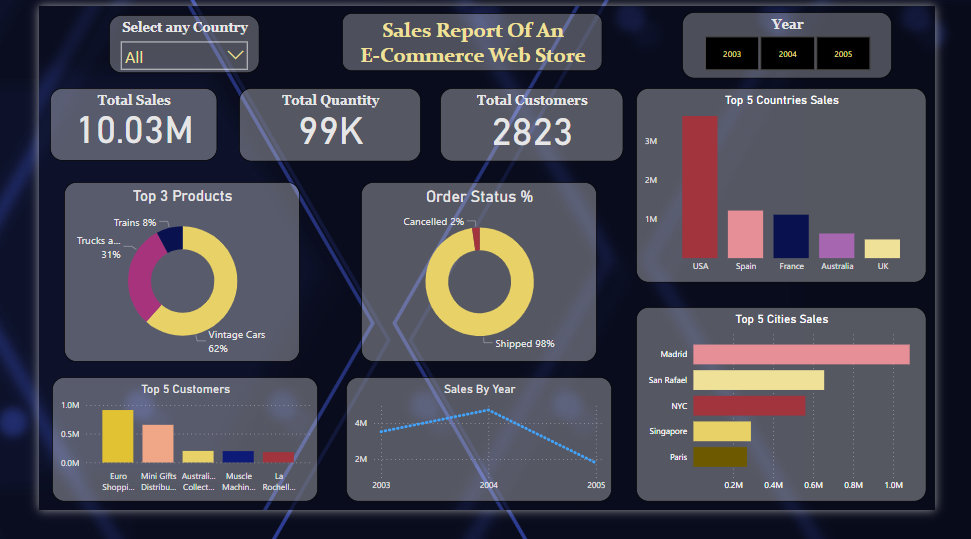

The page's visual inventory and layout, read from the dashboard file:
{"tool":"powerbi","page":{"name":"Page 1","canvas":[1280,720],"ordinal":0},"visuals":[{"type":"columnChart","title":"Top 5 Countries Sales ","fields":{"Category":["sales_data_sample.COUNTRY"],"Y":["Sum(sales_data_sample.SALES)"]},"box":[853.3,116.7,415,278.3],"z":0},{"type":"textbox","title":"Sales Report Of An E-Commerce Web Store","box":[433.3,10,371.7,83.3],"z":1000},{"type":"card","title":"Total Sales","fields":{"Values":["Sum(sales_data_sample.SALES)"]},"box":[15.7,117.1,238.6,104.3],"z":2000},{"type":"barChart","title":"Top 5 Cities Sales ","fields":{"Category":["sales_data_sample.CITY"],"Y":["Sum(sales_data_sample.SALES)"]},"box":[853.3,430,415,278.3],"z":3000},{"type":"donutChart","title":"Top 3 Products","fields":{"Category":["sales_data_sample.PRODUCTLINE"],"Y":["CountNonNull(sales_data_sample.PRODUCTLINE)"]},"box":[35,251.7,336.7,256.7],"z":3001},{"type":"card","title":"Total Quantity","fields":{"Values":["Sum(sales_data_sample.QUANTITYORDERED)"]},"box":[285,116.7,260,105],"z":3002},{"type":"donutChart","title":"Order Status %","fields":{"Category":["sales_data_sample.STATUS"],"Y":["CountNonNull(sales_data_sample.CUSTOMERNAME)"]},"box":[460,251.7,336.7,256.7],"z":3003},{"type":"lineClusteredColumnComboChart","title":"Sales By Year","fields":{"Y2":["Sum(sales_data_sample.SALES)"],"Category":["sales_data_sample.YEAR_ID"]},"box":[438.3,530,380,178.3],"z":3004},{"type":"card","title":"Total Customers","fields":{"Values":["CountNonNull(sales_data_sample.CUSTOMERNAME)"]},"box":[573.3,116.7,261.7,105],"z":3005},{"type":"columnChart","title":"Top 5 Customers","fields":{"Category":["sales_data_sample.CUSTOMERNAME"],"Y":["Sum(sales_data_sample.SALES)"]},"box":[18.3,530,380,178.3],"z":3006},{"type":"slicer","title":"Year ","fields":{"Values":["sales_data_sample.YEAR_ID"]},"box":[918.3,8.3,300,95],"z":3007},{"type":"slicer","title":"Select any Country","fields":{"Values":["sales_data_sample.COUNTRY"]},"box":[70,8.3,233.3,90],"z":3008}]}

Visuals, with their boxes in screenshot pixels (x1, y1, x2, y2), scaled from the page's 1280x720 canvas onto the 971x539 screenshot:
"Top 5 Countries Sales " columnChart: <region>647, 87, 962, 296</region>
"Sales Report Of An E-Commerce Web Store" textbox: <region>329, 7, 611, 70</region>
"Total Sales" card: <region>12, 88, 193, 166</region>
"Top 5 Cities Sales " barChart: <region>647, 322, 962, 530</region>
"Top 3 Products" donutChart: <region>27, 188, 282, 381</region>
"Total Quantity" card: <region>216, 87, 413, 166</region>
"Order Status %" donutChart: <region>349, 188, 604, 381</region>
"Sales By Year" lineClusteredColumnComboChart: <region>332, 397, 621, 530</region>
"Total Customers" card: <region>435, 87, 633, 166</region>
"Top 5 Customers" columnChart: <region>14, 397, 302, 530</region>
"Year " slicer: <region>697, 6, 924, 77</region>
"Select any Country" slicer: <region>53, 6, 230, 74</region>
